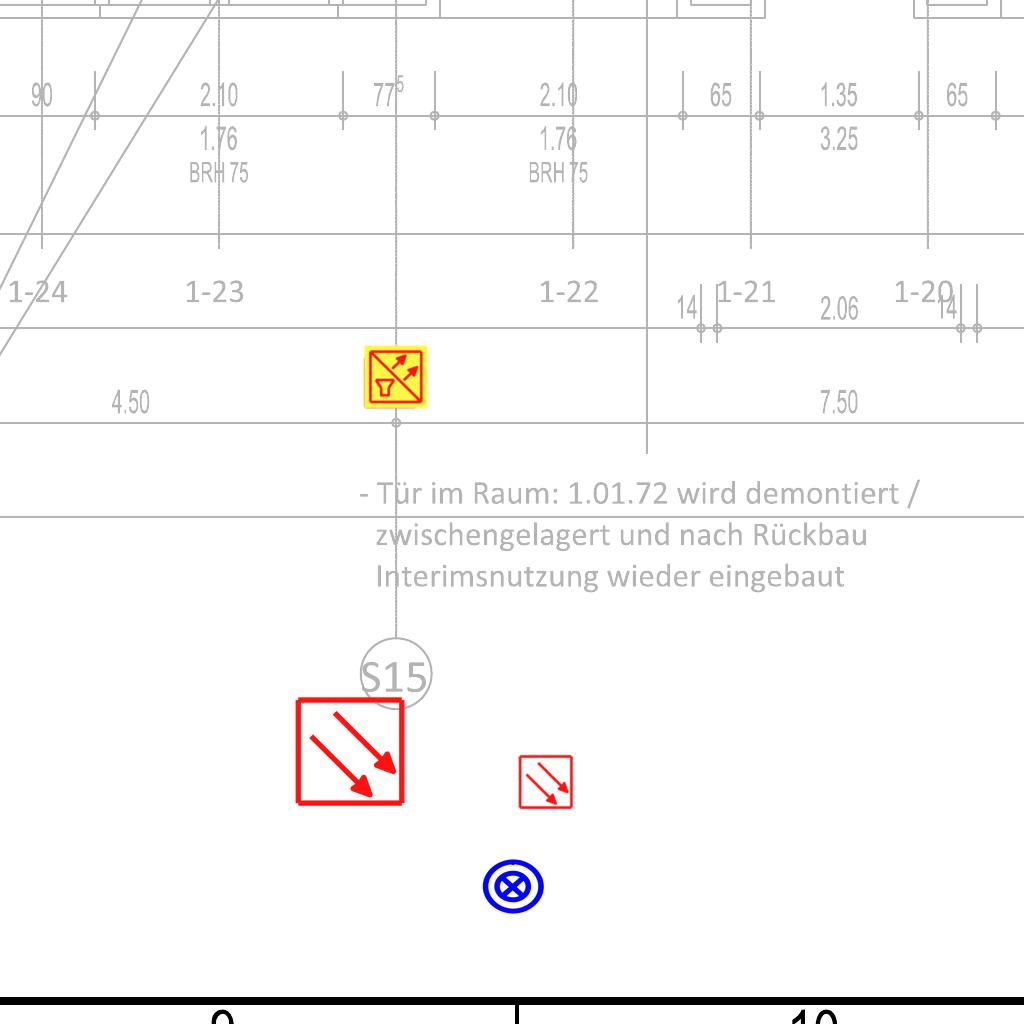OKW_Multisensormelder_(Kombination_optischer_Rauch-Kahlenmonoxid_Waerme-Melder): (363, 344, 429, 410)
RMO_Rauchmelder_optischer: (294, 695, 407, 808), (518, 754, 574, 810)
Taster_beleuchtet: (480, 854, 546, 920)
